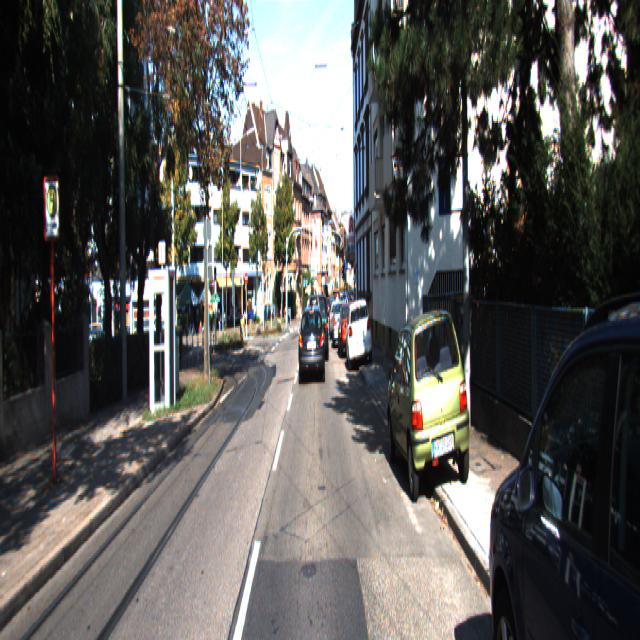Car: (480, 226, 640, 638), (385, 300, 473, 508), (298, 300, 326, 384), (345, 294, 372, 372), (308, 291, 329, 363), (337, 300, 359, 360)
